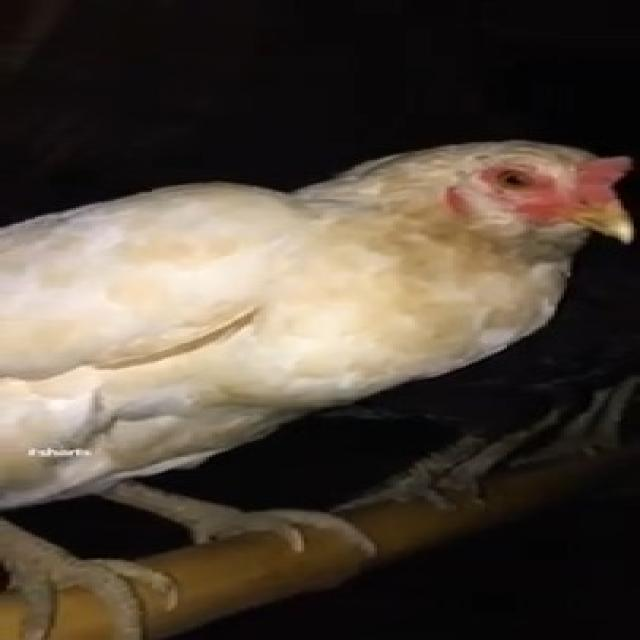sleeping chickens: (0, 137, 640, 640)
